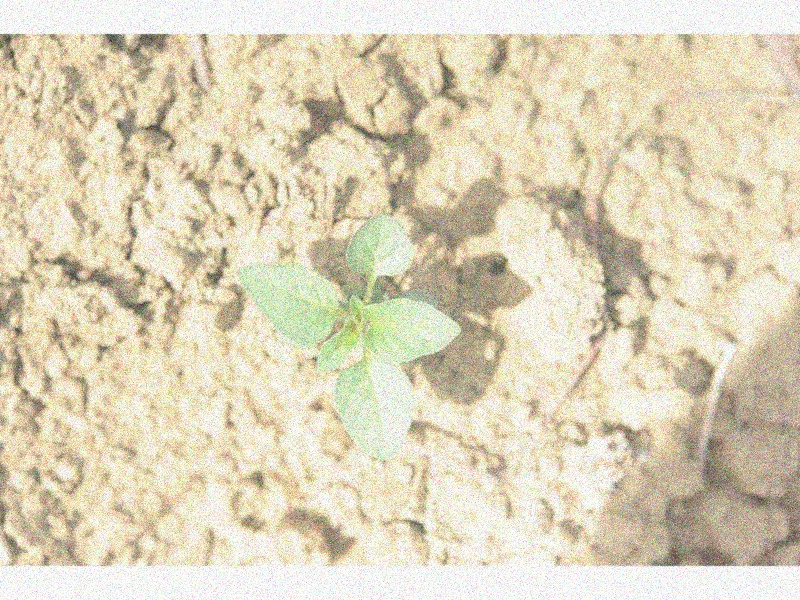nightshade: (237, 212, 461, 462)
